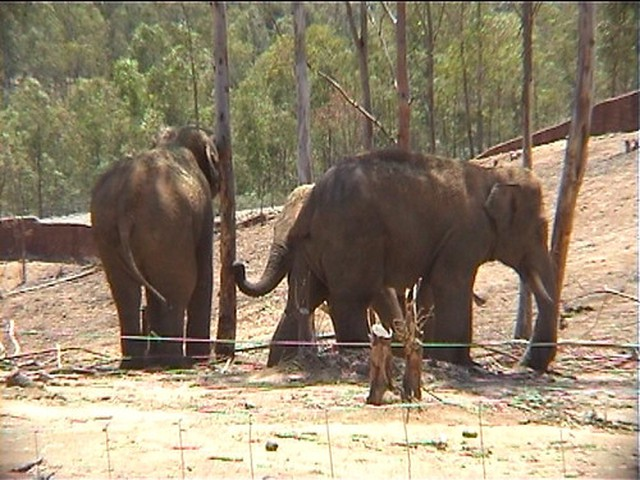Elephant: (240, 148, 574, 335), (85, 121, 223, 366)
